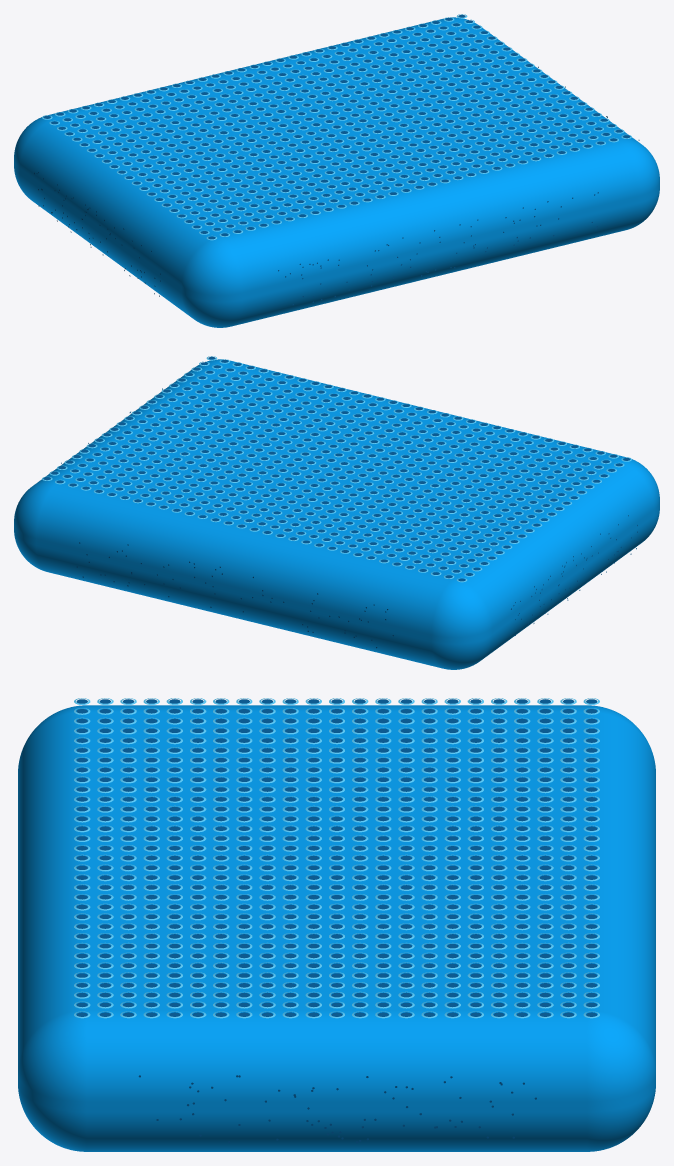
File: Balance-Pad_3D_v2.glb
The picture shows the model from 3 angles, top to bottom: view 1: azimuth 30°, elevation 25°; view 2: azimuth 150°, elevation 25°; view 3: azimuth 270°, elevation 25°; orthographic projection. The views are drawn at different scales.
Visible parts, largest first — view 1: Balance-Pad_3D_v2_new_v2_saturated_sport_blue, Balance-Pad_3D_v2_new_v2_blue_highlight_detail, Balance-Pad_3D_v2_new_v2_blue_shadow_detail; view 2: Balance-Pad_3D_v2_new_v2_saturated_sport_blue, Balance-Pad_3D_v2_new_v2_blue_highlight_detail, Balance-Pad_3D_v2_new_v2_blue_shadow_detail; view 3: Balance-Pad_3D_v2_new_v2_saturated_sport_blue, Balance-Pad_3D_v2_new_v2_blue_highlight_detail, Balance-Pad_3D_v2_new_v2_blue_shadow_detail.
Part boxes in pixels (left/top/right/bottom): Balance-Pad_3D_v2_new_v2_saturated_sport_blue: left=14, top=17, right=659, bottom=327; Balance-Pad_3D_v2_new_v2_blue_highlight_detail: left=42, top=14, right=631, bottom=240; Balance-Pad_3D_v2_new_v2_blue_shadow_detail: left=34, top=14, right=639, bottom=305; Balance-Pad_3D_v2_new_v2_saturated_sport_blue: left=14, top=359, right=659, bottom=669; Balance-Pad_3D_v2_new_v2_blue_highlight_detail: left=42, top=356, right=631, bottom=582; Balance-Pad_3D_v2_new_v2_blue_shadow_detail: left=43, top=356, right=637, bottom=648; Balance-Pad_3D_v2_new_v2_saturated_sport_blue: left=18, top=705, right=655, bottom=1151; Balance-Pad_3D_v2_new_v2_blue_highlight_detail: left=74, top=698, right=599, bottom=1018; Balance-Pad_3D_v2_new_v2_blue_shadow_detail: left=76, top=699, right=597, bottom=1143.
Bounding box in the file's own units: 0.8276 × 0.1485 × 0.6276.
